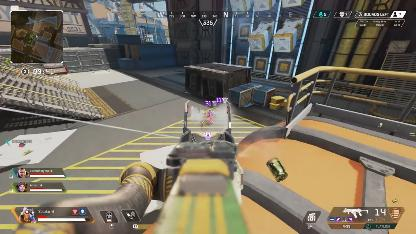Target: (206, 110, 216, 122)
